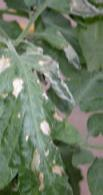Tomato leaf bacterial spot: (0, 41, 83, 195)
